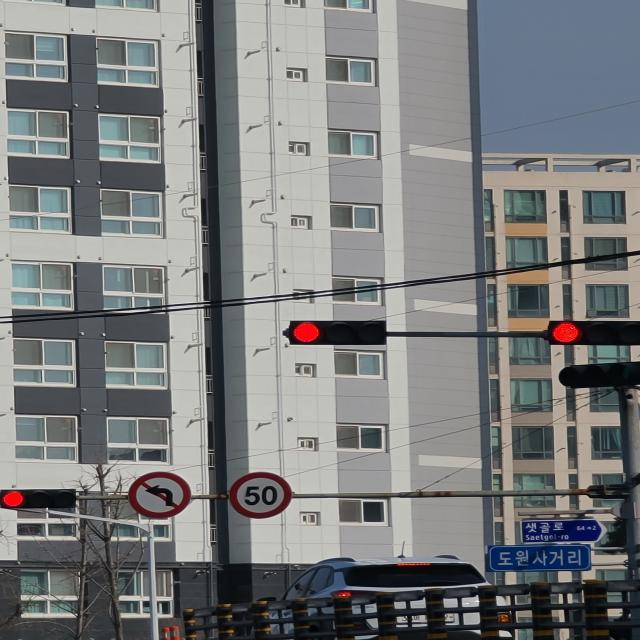Green Light: (612, 364, 640, 385)
Red Light: (292, 322, 321, 343), (552, 322, 580, 343), (1, 491, 23, 507)
